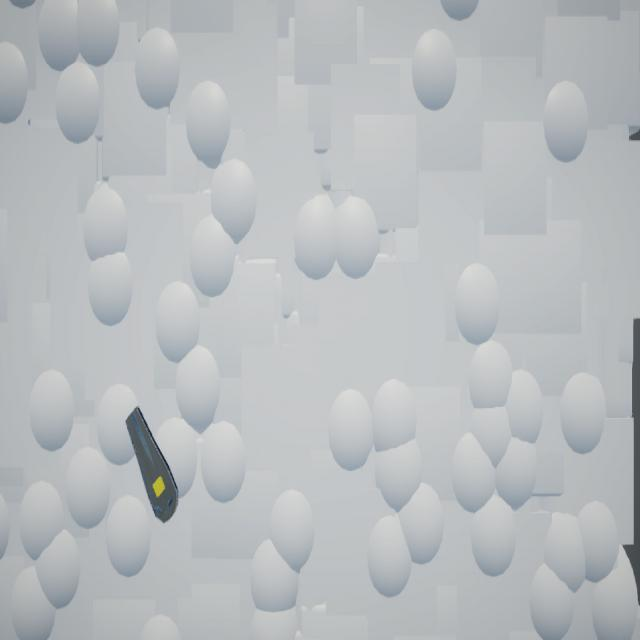handle_knife: (126, 407, 179, 524)
